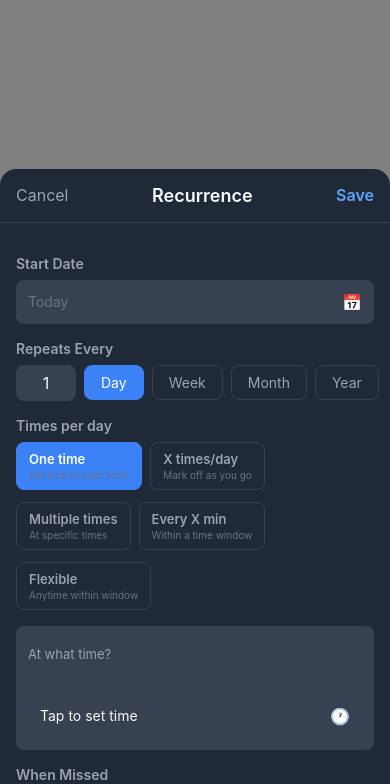
Test: RecurrencePicker › intraday modes › shows interval config when Every X min selected
Click the text "Every X min" at (189, 519), box [152,511,226,527]
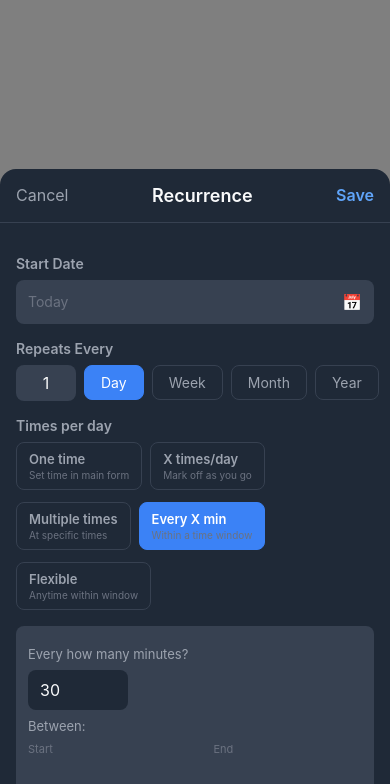
Check: the text "Every how many minutes?" is shown, box [28,646,188,662]
Check: the text "Between:" is shown, box [28,718,86,734]
